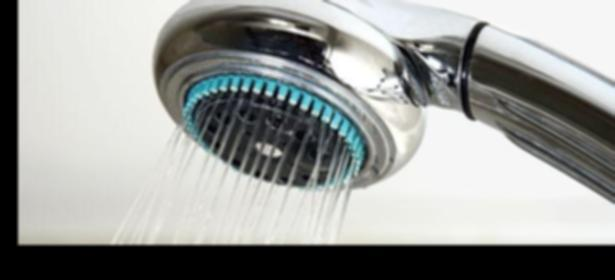Ducha: (18, 0, 615, 244)
